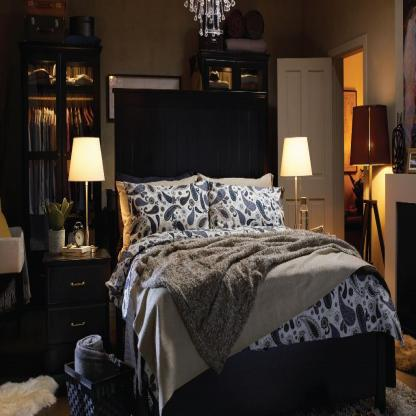Bed: (110, 85, 398, 416)
